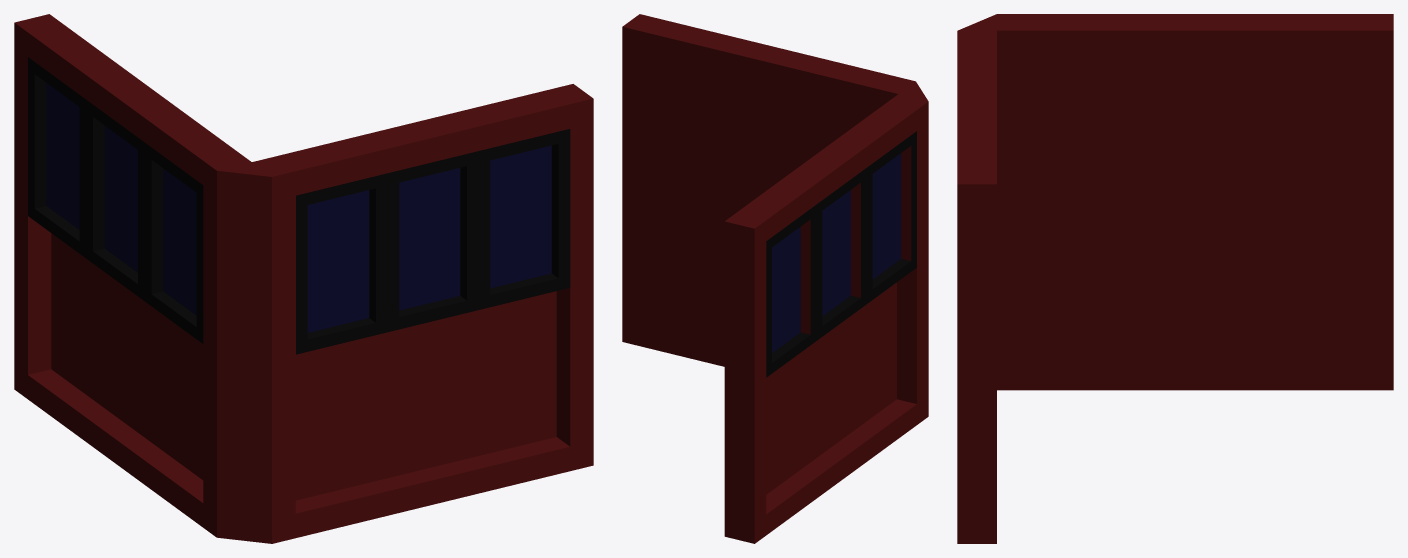
Rendered from daly22.FBX.
3 renders of one model, left to right at view 1: azimuth 30°, elevation 25°; view 2: azimuth 150°, elevation 25°; view 3: azimuth 270°, elevation 25°, orthographic. The views are drawn at different scales.
Parts seen in each view (by area): view 1: daly22; view 2: daly22; view 3: daly22.
Part boxes in pixels (x1,y1,x2,y2): daly22: [14, 14, 593, 543]; daly22: [622, 14, 928, 543]; daly22: [957, 14, 1393, 543].
Size of the model in its own units: 3050 by 3000 by 3300.
